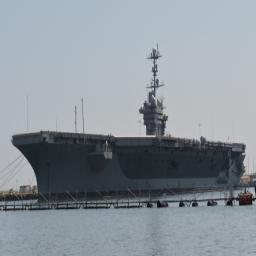Portanaves: (11, 37, 251, 206)
